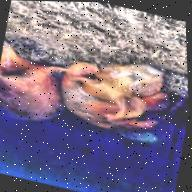boar: (51, 44, 179, 143), (0, 42, 74, 131)
